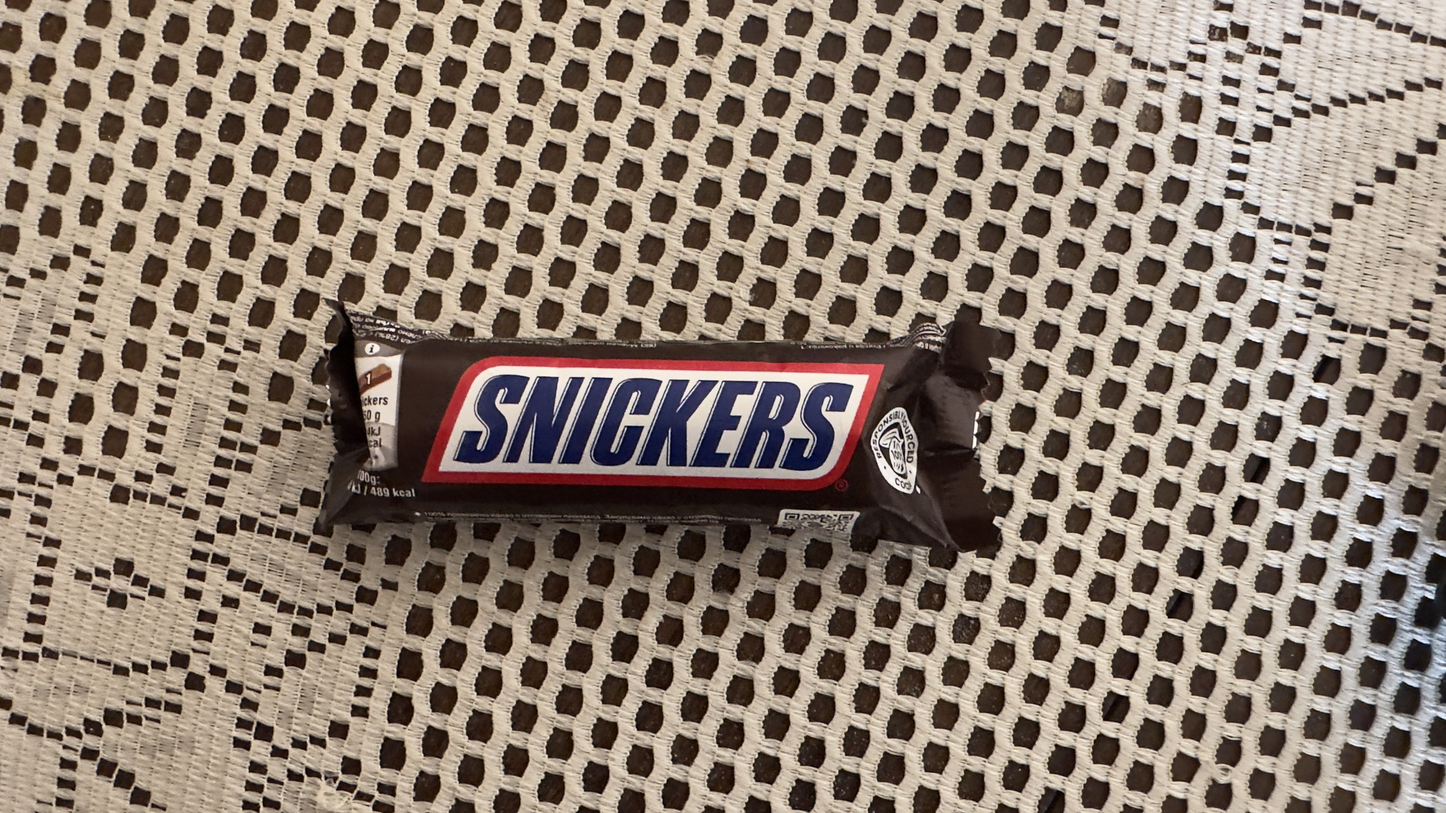SNICKERS: (330, 343, 977, 523)
